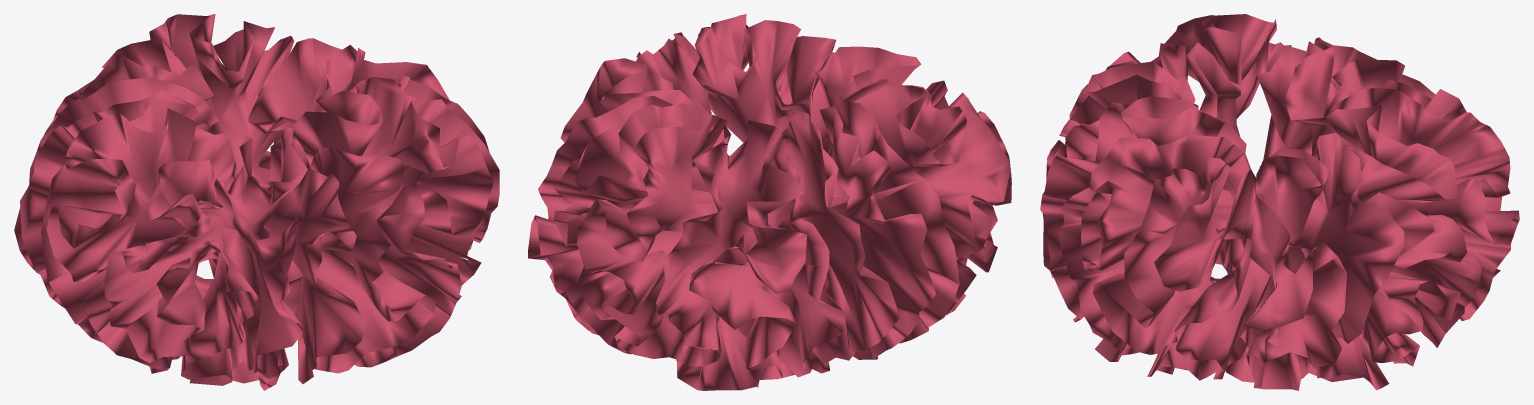
The model's file is coral-ruffle.glb.
3 renders of one model, left to right at view 1: azimuth 30°, elevation 25°; view 2: azimuth 150°, elevation 25°; view 3: azimuth 270°, elevation 25°, orthographic. The views are drawn at different scales.
Visible parts, largest first — view 1: Circle; view 2: Circle; view 3: Circle.
Part boxes in pixels (<box>): Circle: <box>14,14,499,390</box>; Circle: <box>528,14,1011,390</box>; Circle: <box>1040,14,1519,390</box>.
Bounding box in the file's own units: 1.4 × 0.923 × 1.39.
